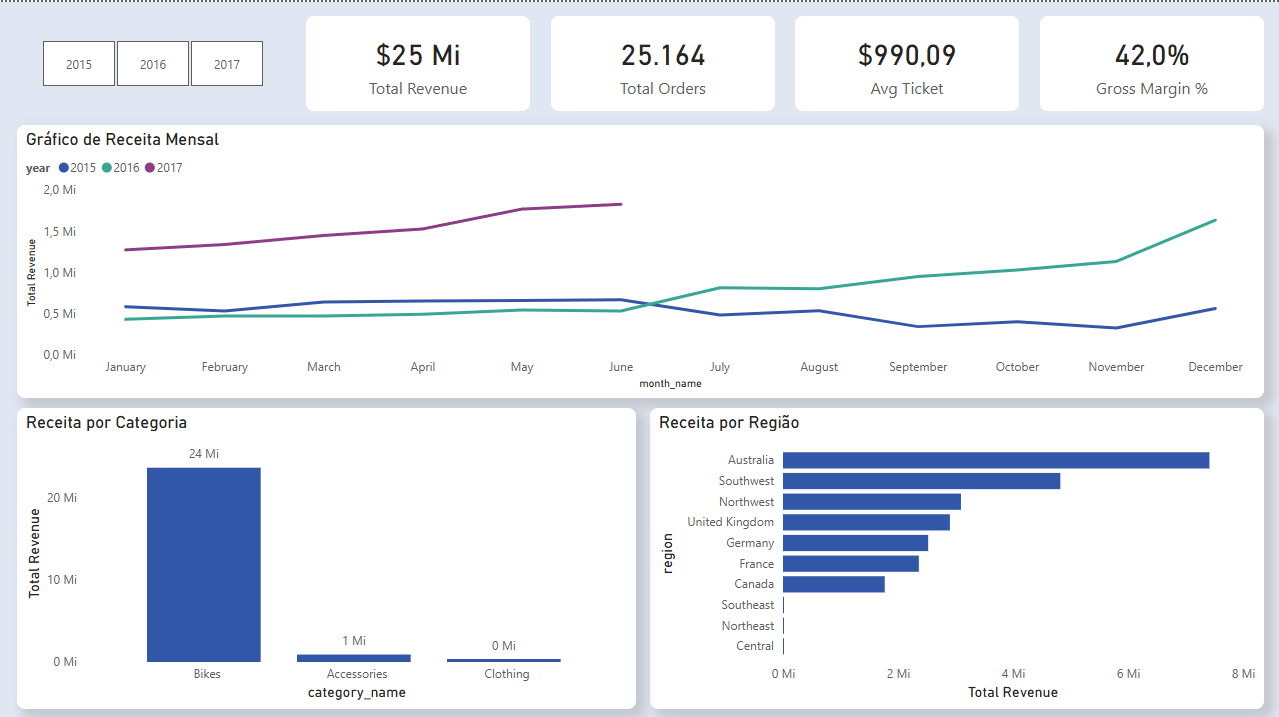

This screenshot's page, from the dashboard's own definition file:
{"tool":"powerbi","page":{"name":"Visão Geral","canvas":[1280,720],"ordinal":0},"visuals":[{"type":"card","fields":{"Values":["_Measures.Total Revenue"]},"box":[306,14,224,95],"z":0},{"type":"card","fields":{"Values":["_Measures.Total Orders"]},"box":[550.7,14,224,95],"z":1000},{"type":"card","fields":{"Values":["_Measures.Avg Ticket"]},"box":[795.3,14,224,95],"z":2000},{"type":"card","fields":{"Values":["_Measures.Gross Margin %"]},"box":[1040,14,224,95],"z":3000},{"type":"lineChart","title":"Gráfico de Receita Mensal","fields":{"Category":["dim_calendar.month_name"],"Y":["_Measures.Total Revenue"],"Series":["dim_calendar.year"]},"box":[17,123,1247,273],"z":4000},{"type":"clusteredBarChart","title":"Receita por Região","fields":{"Category":["dim_territory.region"],"Y":["_Measures.Total Revenue"]},"box":[650,406,614,301],"z":5000},{"type":"columnChart","title":"Receita por Categoria","fields":{"Category":["dim_product.category_name"],"Y":["_Measures.Total Revenue"]},"box":[17,406,619,301],"z":6000},{"type":"slicer","fields":{"Values":["dim_calendar.year"]},"box":[17,32,270,59],"z":7000}]}

Visuals, with their boxes in screenshot pixels (x1, y1, x2, y2), scaled from the page's 1280x720 canvas onto the 1279x717 screenshot:
card - _Measures.Total Revenue: (306, 14, 530, 109)
card - _Measures.Total Orders: (550, 14, 774, 109)
card - _Measures.Avg Ticket: (795, 14, 1019, 109)
card - _Measures.Gross Margin %: (1039, 14, 1263, 109)
"Gráfico de Receita Mensal" lineChart: (17, 122, 1263, 394)
"Receita por Região" clusteredBarChart: (649, 404, 1263, 704)
"Receita por Categoria" columnChart: (17, 404, 636, 704)
slicer - dim_calendar.year: (17, 32, 287, 91)
